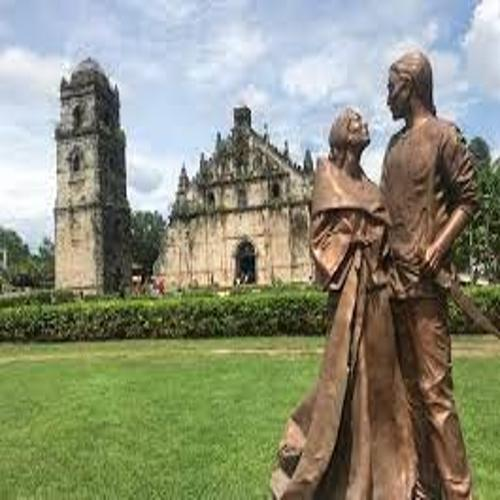Paoay Church: (36, 46, 354, 317)
